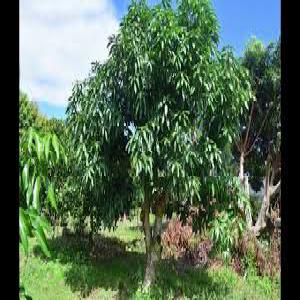Tree: (64, 0, 251, 286)
